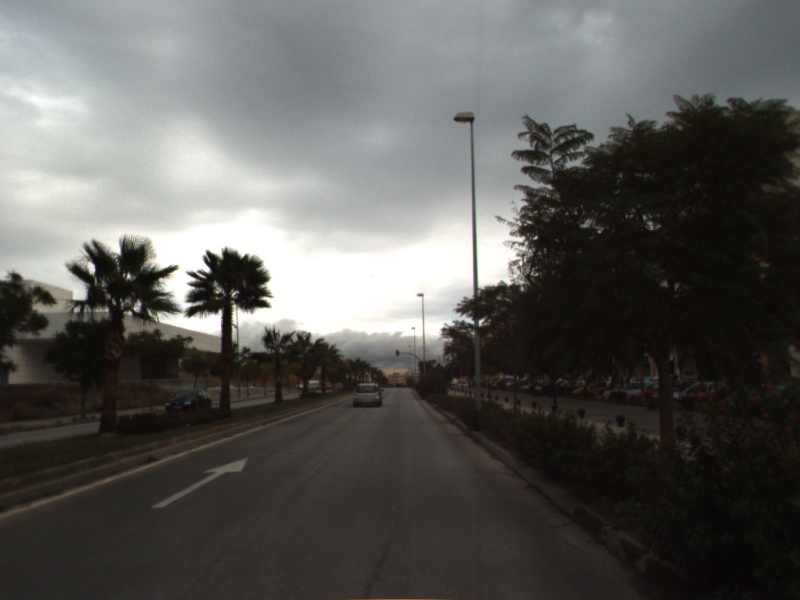STRAIGHT: (149, 455, 250, 510)
